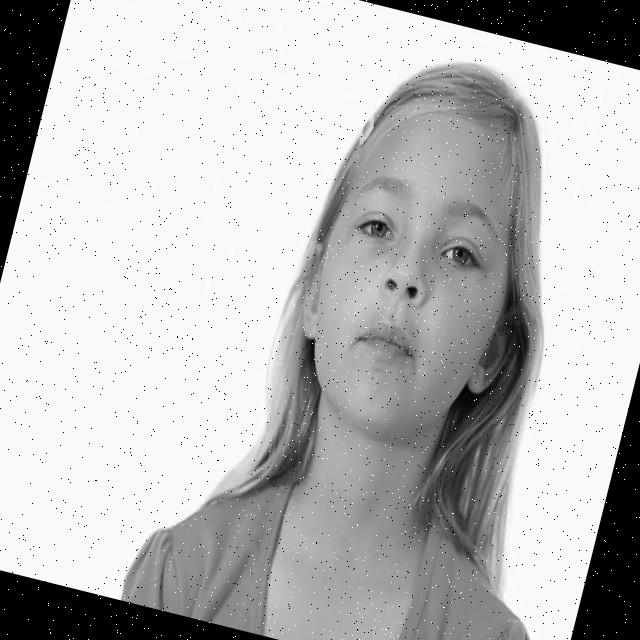Neutral: (287, 98, 544, 450)
